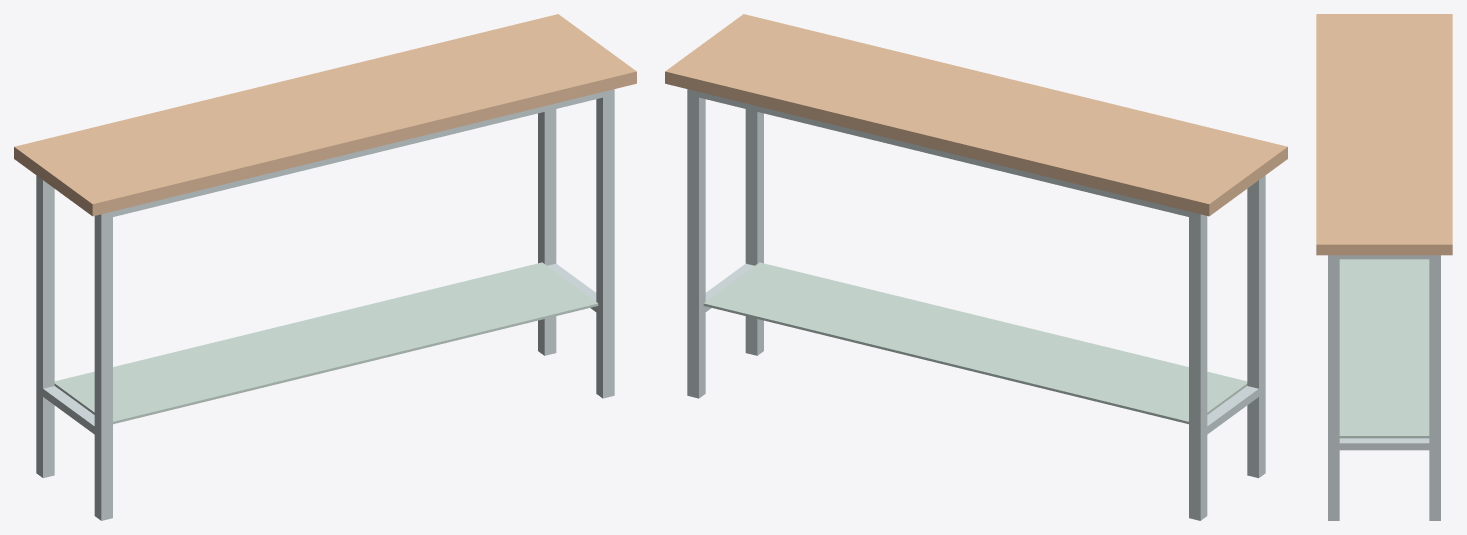
The model's file is consoleBrass.glb.
The picture shows the model from 3 angles, left to right: view 1: azimuth 30°, elevation 25°; view 2: azimuth 150°, elevation 25°; view 3: azimuth 270°, elevation 25°; orthographic projection. The views are drawn at different scales.
Parts seen in each view (by area): view 1: consoleBrass; view 2: consoleBrass; view 3: consoleBrass.
Boxes of the visible parts, box(x1,y1,x2,y2) form: consoleBrass: box(14, 14, 636, 520); consoleBrass: box(665, 14, 1287, 520); consoleBrass: box(1316, 14, 1452, 520).
Size of the model in its own units: 0.7 by 0.4 by 0.175.
